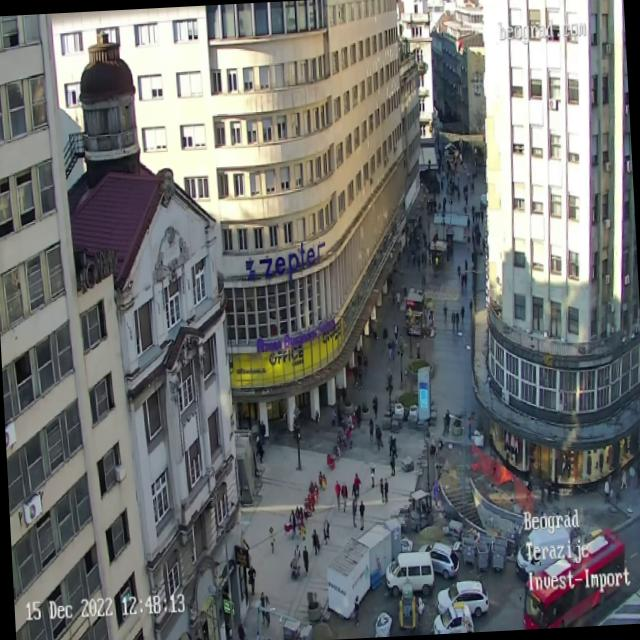bus: (518, 525, 630, 629)
car: (518, 526, 576, 574), (386, 550, 434, 594), (438, 576, 488, 616), (424, 540, 460, 581), (431, 606, 470, 634)
